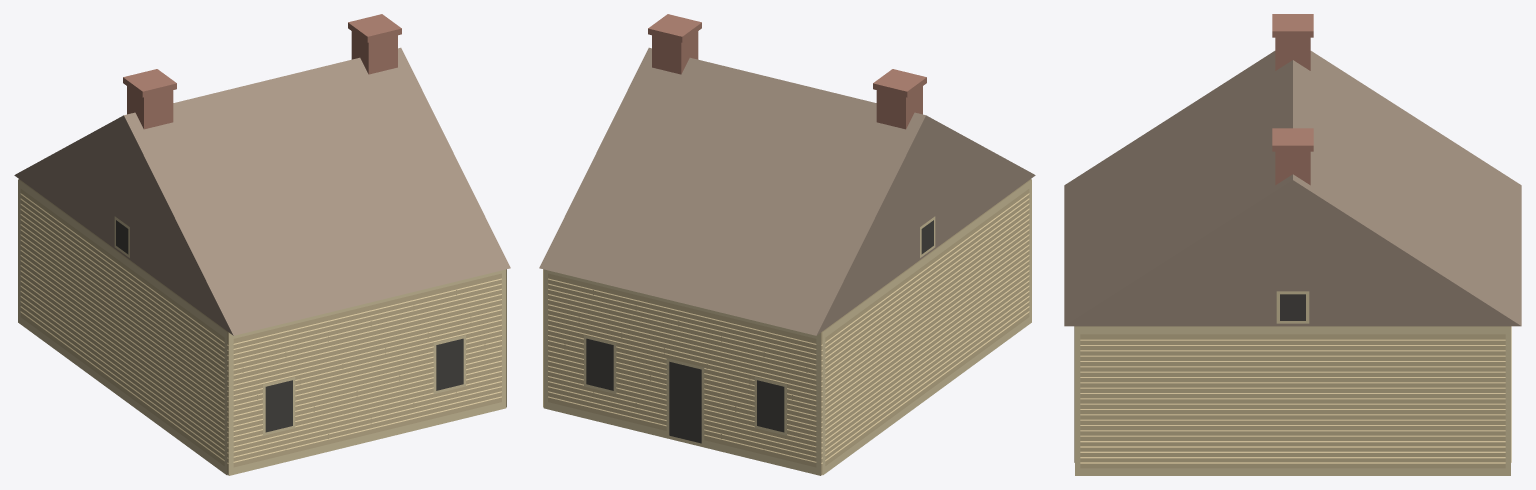
The model's file is recon_1835_west_006__inferred_1835.glb.
3 views of the same model, side by side, from view 1: azimuth 30°, elevation 25°; view 2: azimuth 150°, elevation 25°; view 3: azimuth 270°, elevation 25° (orthographic). The views are drawn at different scales.
Parts seen in each view (by area): view 1: recon_1835_west_006__inferred_1835; view 2: recon_1835_west_006__inferred_1835; view 3: recon_1835_west_006__inferred_1835.
Part boxes in pixels (left/top/right/bottom): recon_1835_west_006__inferred_1835: left=14, top=14, right=510, bottom=475; recon_1835_west_006__inferred_1835: left=539, top=14, right=1035, bottom=475; recon_1835_west_006__inferred_1835: left=1064, top=14, right=1521, bottom=475.
Size of the model in its own units: 8.02 by 8.53 by 10.86.
